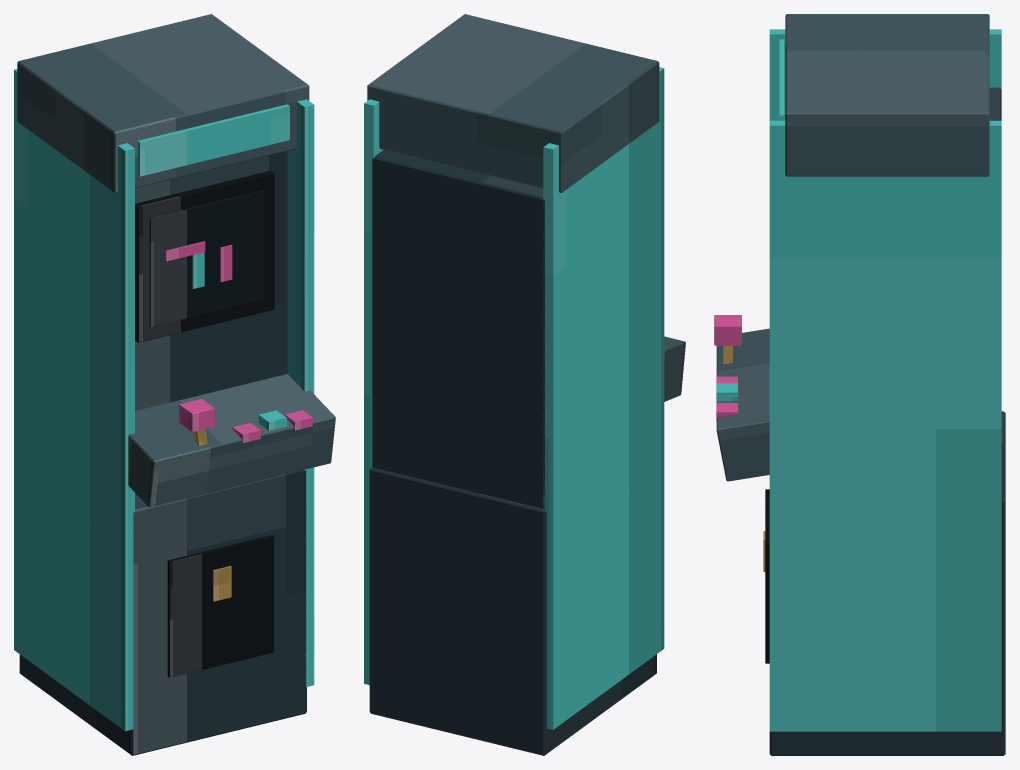
File: arcade_cabinet_cyan_magenta.glb
The picture shows the model from 3 angles, left to right: view 1: azimuth 30°, elevation 25°; view 2: azimuth 150°, elevation 25°; view 3: azimuth 270°, elevation 25°; orthographic projection. The views are drawn at different scales.
Visible parts, largest first — view 1: EdgeTrim_L, CabinetBase, Marquee, ControlDeck, CabinetUpper, CoinDoor, ScreenGlass, EdgeTrim_R, ScreenRecess, MarqueeFace, JoystickTop, CoinSlot; view 2: EdgeTrim_L, CabinetUpper, CabinetBase, Marquee, EdgeTrim_R, ControlDeck; view 3: EdgeTrim_R, Marquee, CabinetBase, ControlDeck, EdgeTrim_L, CoinDoor, JoystickTop.
Boxes of the visible parts, x1,y1,x2,y2 form: EdgeTrim_L: [14, 69, 134, 731]; CabinetBase: [19, 470, 306, 755]; Marquee: [17, 14, 309, 192]; ControlDeck: [128, 374, 335, 507]; CabinetUpper: [135, 151, 287, 493]; CoinDoor: [167, 535, 273, 677]; ScreenGlass: [149, 190, 264, 327]; EdgeTrim_R: [287, 99, 314, 686]; ScreenRecess: [135, 170, 274, 342]; MarqueeFace: [137, 104, 289, 176]; JoystickTop: [179, 399, 214, 432]; CoinSlot: [213, 566, 231, 601]; EdgeTrim_L: [543, 67, 664, 729]; CabinetUpper: [372, 150, 544, 508]; CabinetBase: [369, 467, 656, 755]; Marquee: [367, 14, 659, 192]; EdgeTrim_R: [364, 99, 383, 684]; ControlDeck: [664, 336, 685, 401]; EdgeTrim_R: [769, 120, 1001, 731]; Marquee: [785, 14, 989, 176]; CabinetBase: [769, 411, 1005, 755]; ControlDeck: [716, 328, 769, 481]; EdgeTrim_L: [769, 29, 1001, 120]; CoinDoor: [765, 489, 769, 663]; JoystickTop: [714, 315, 741, 345].
Size of the model in its own units: 0.6 by 1.82 by 0.74.
Materials: 1 (1 with a texture image).
